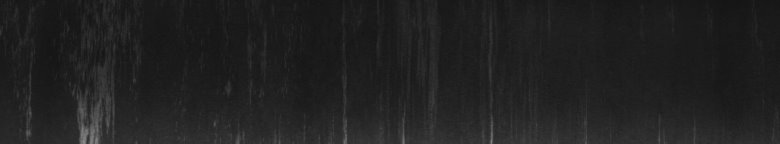ka: (333, 21, 497, 136)
